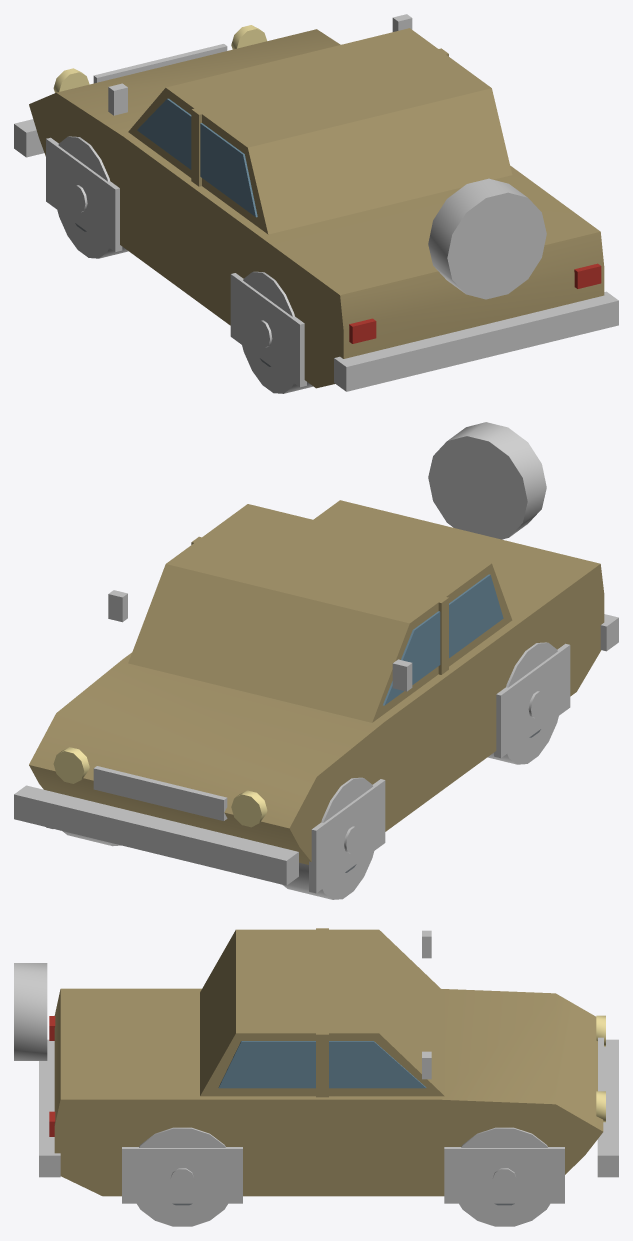
The model's file is humvee.obj.
3 views of the same model, one above another, from view 1: azimuth 30°, elevation 25°; view 2: azimuth 150°, elevation 25°; view 3: azimuth 270°, elevation 25° (orthographic). The views are drawn at different scales.
Visible parts, largest first — view 1: model; view 2: model; view 3: model.
Part boxes in pixels (x1,y1,x2,y2): model: (14,14,618,393); model: (14,422,618,899); model: (14,928,618,1226).
Size of the model in its own units: 2.52 by 1.87 by 5.07.
